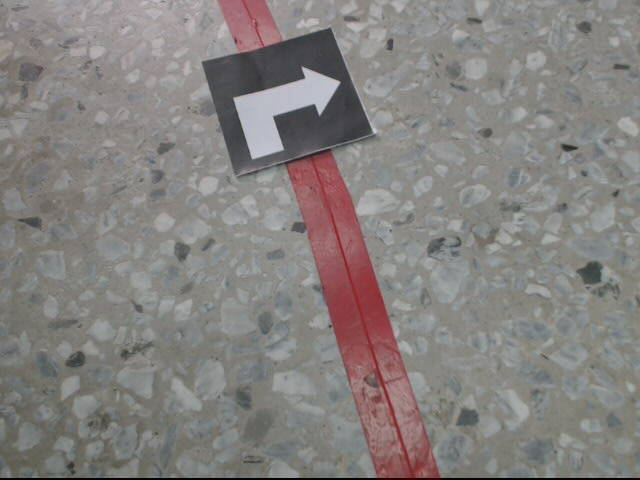right: (200, 25, 378, 178)
